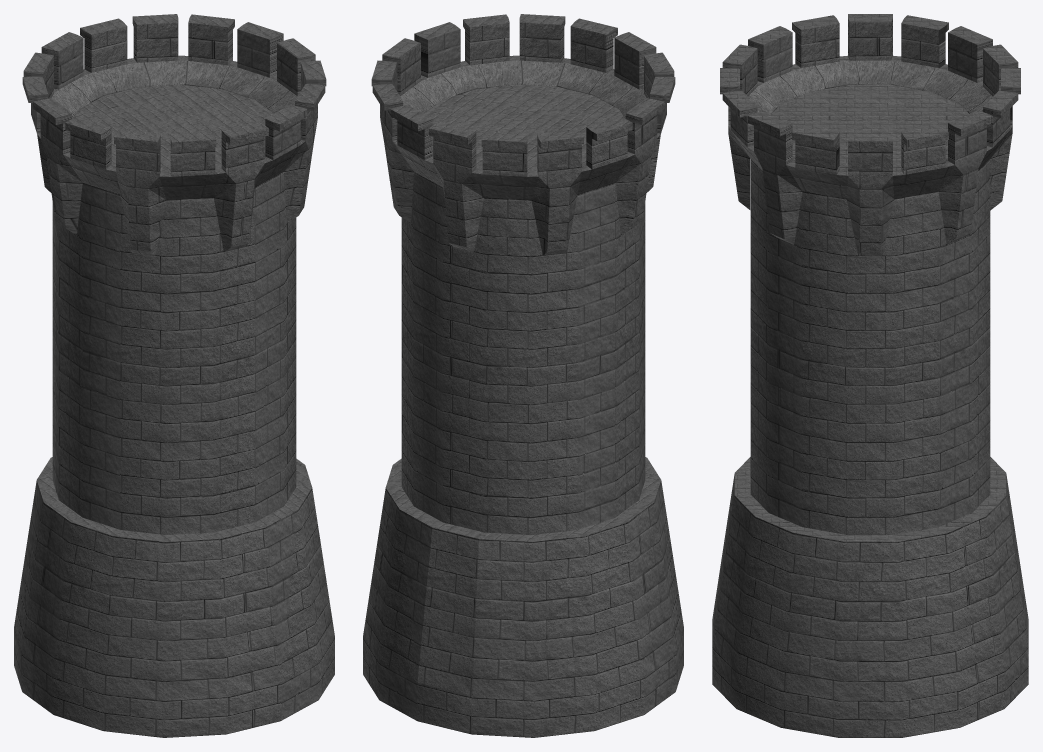
File: tower 2.FBX
3 renders of one model, left to right at view 1: azimuth 30°, elevation 25°; view 2: azimuth 150°, elevation 25°; view 3: azimuth 270°, elevation 25°, orthographic.
Visible parts, largest first — view 1: Cylinder007; view 2: Cylinder007; view 3: Cylinder007.
Boxes of the visible parts, x1,y1,x2,y2 form: Cylinder007: (14,14,334,737); Cylinder007: (363,14,683,737); Cylinder007: (712,14,1028,737).
Bounding box in the file's own units: 22.24 × 46.05 × 22.24.
